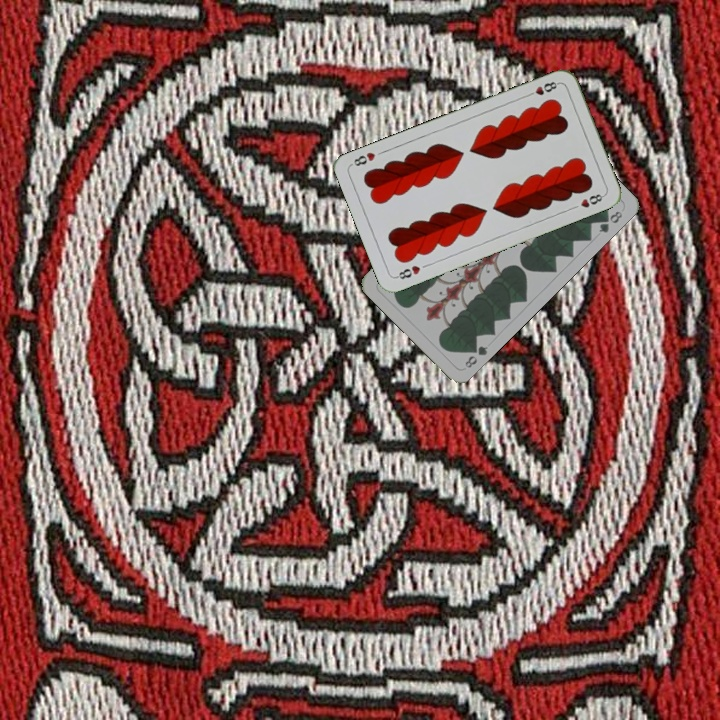G8: (461, 339, 490, 371)
H8: (523, 77, 562, 99), (392, 261, 423, 282)
